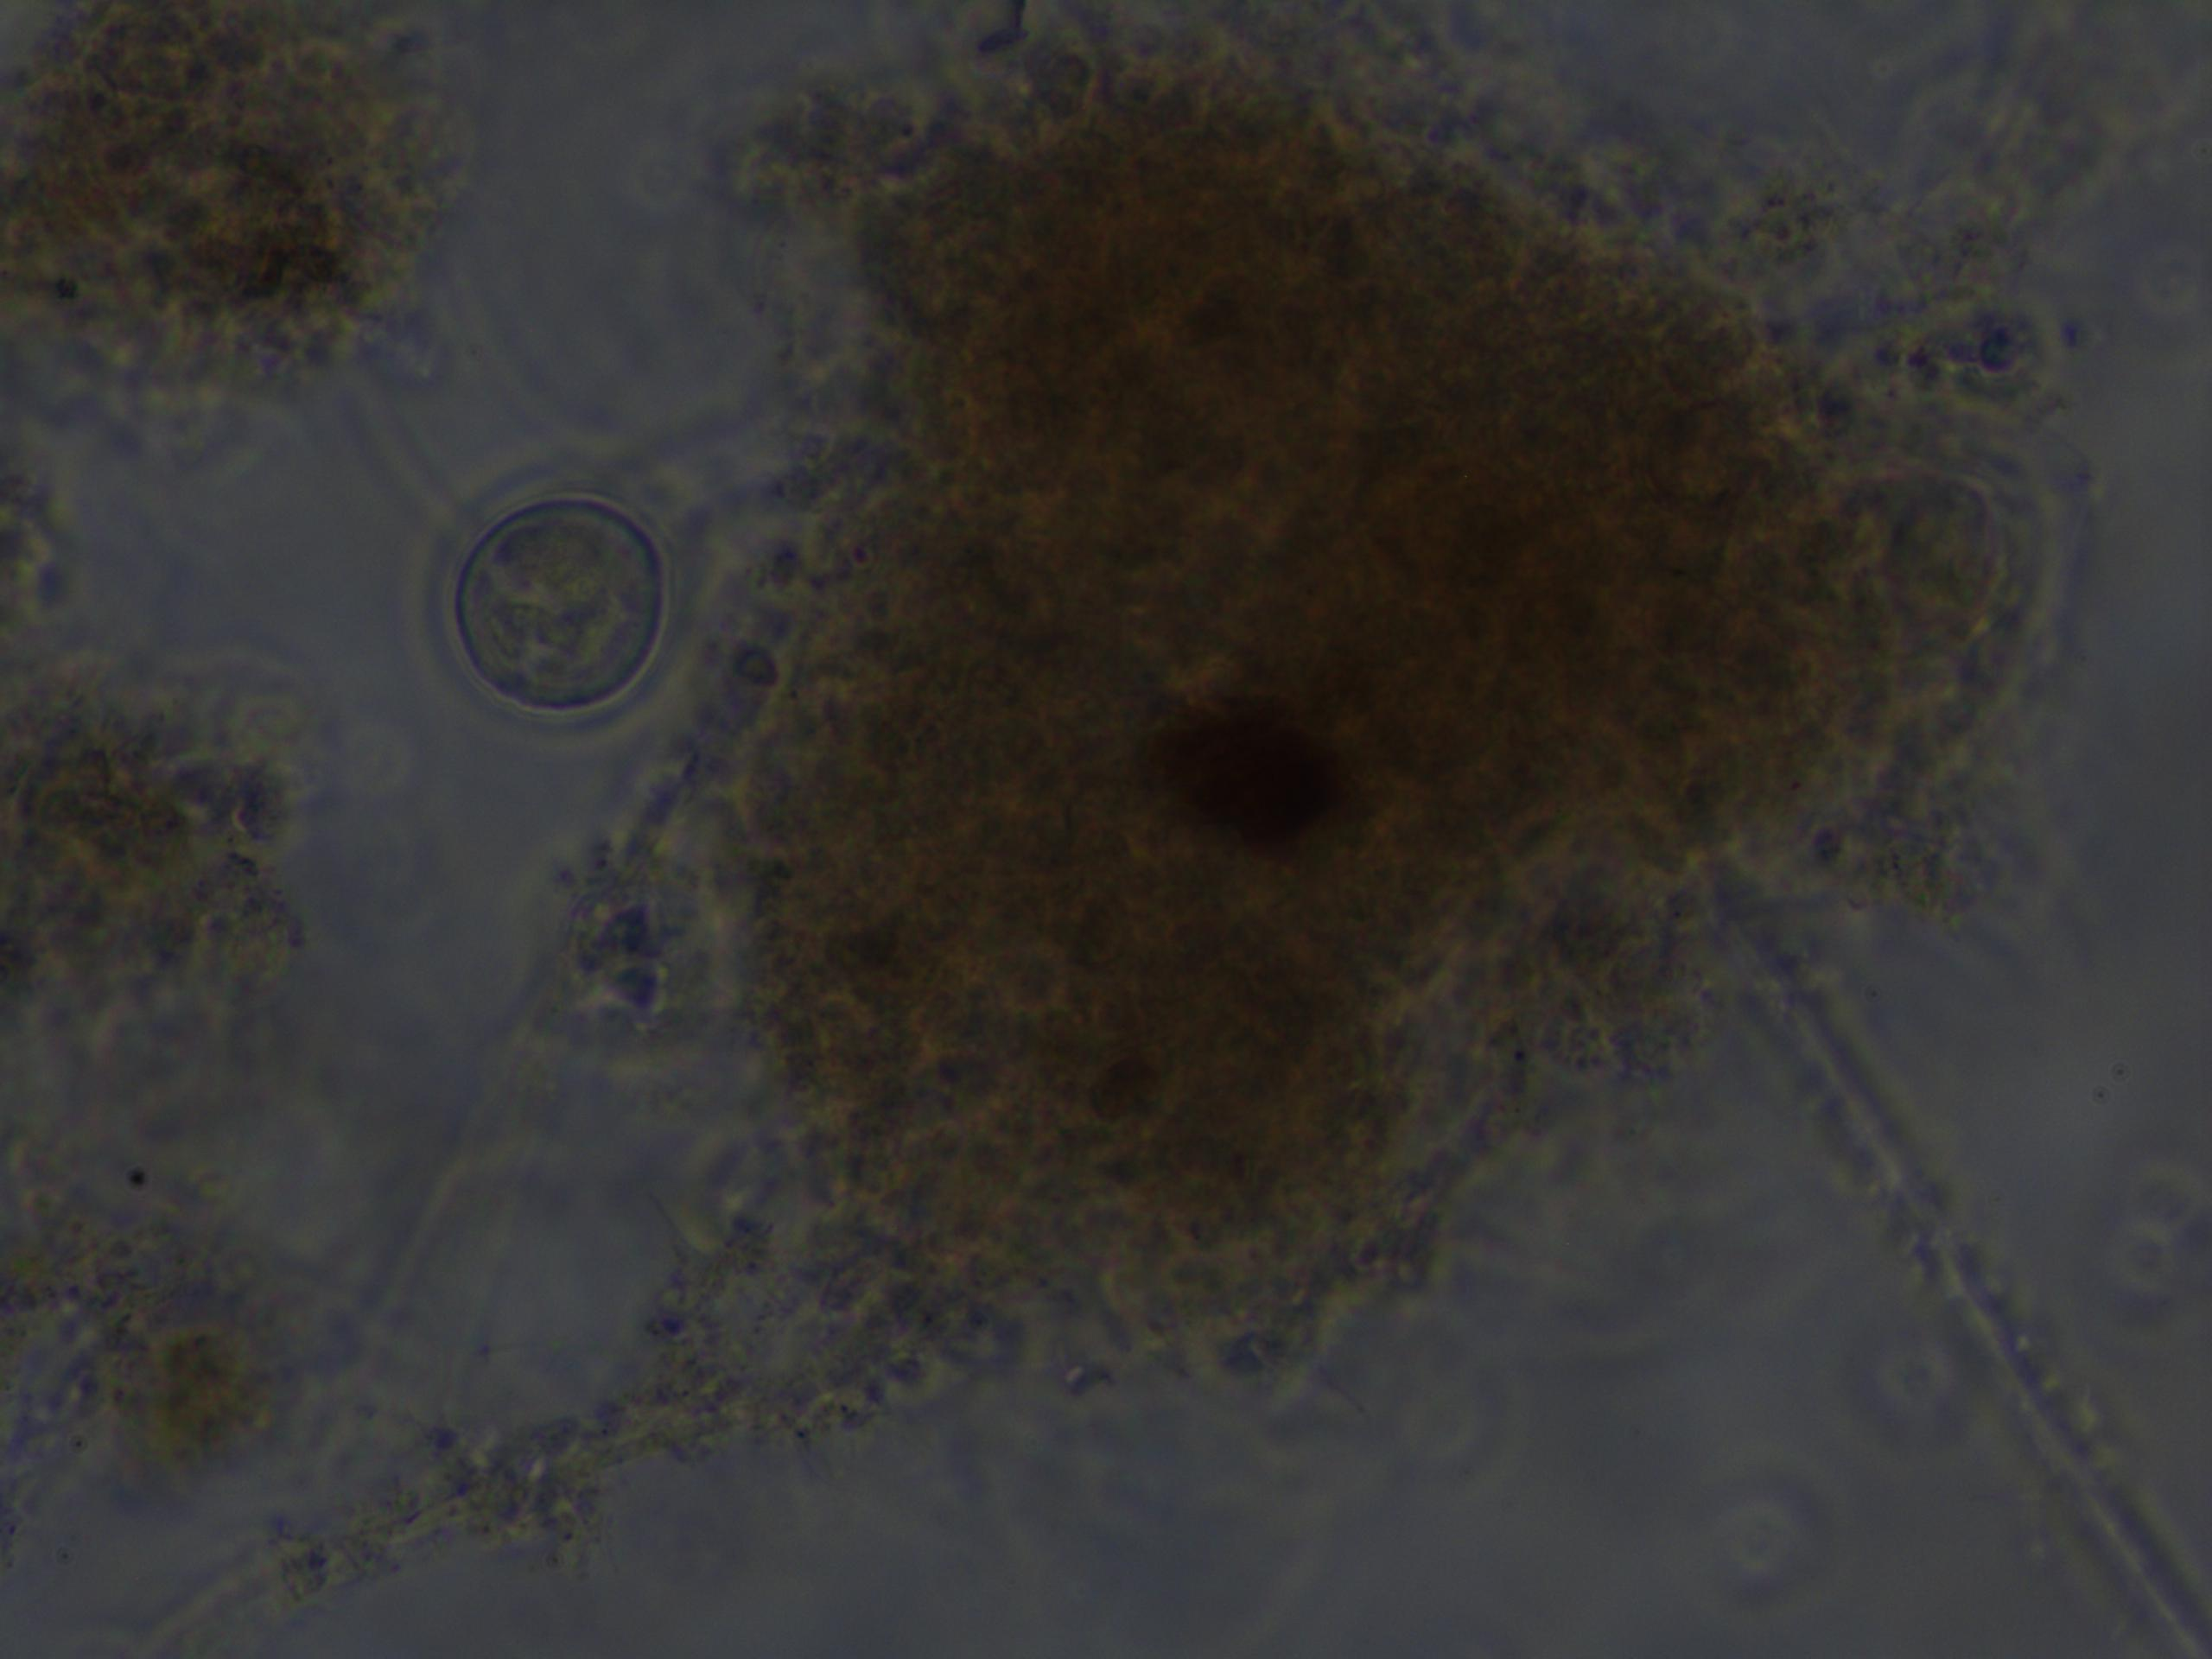filament: (1679, 931, 2212, 1659), (129, 1337, 953, 1659)
spherical_floc: (732, 33, 1932, 1392)
